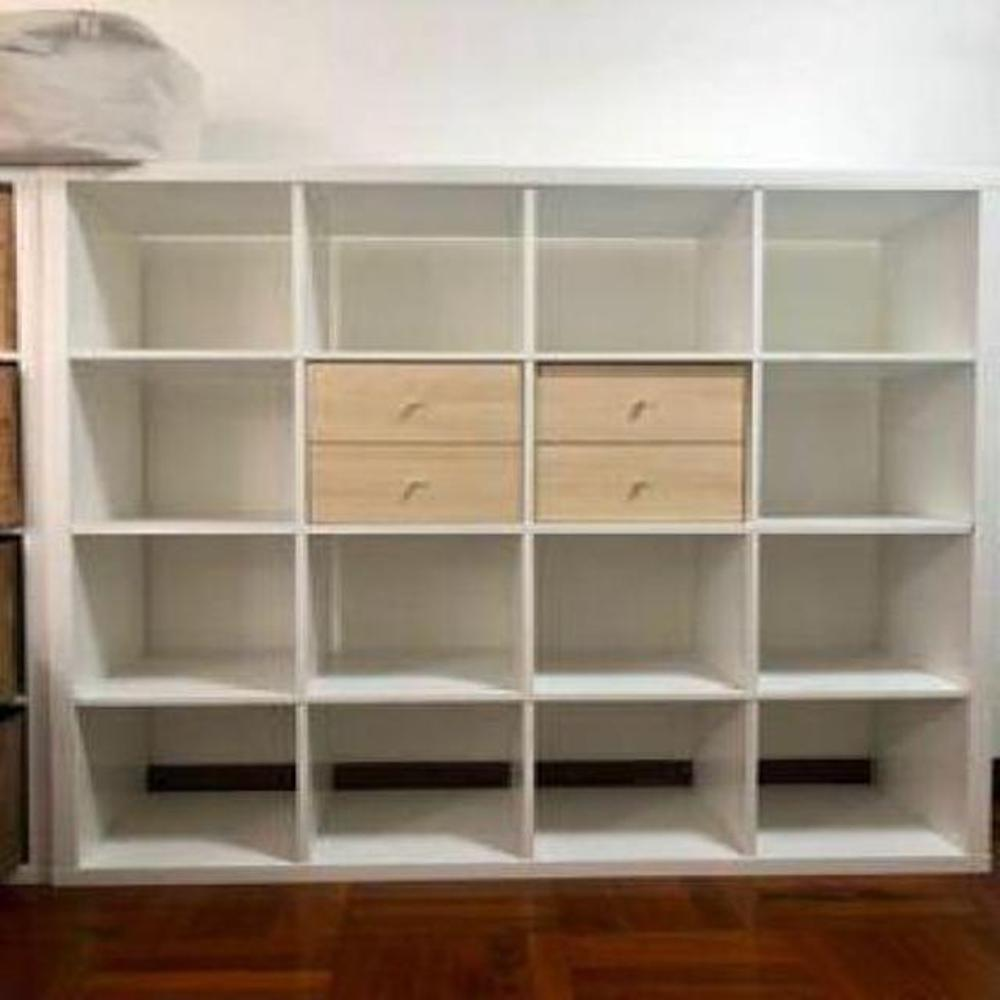lamp: (38, 166, 996, 882)
